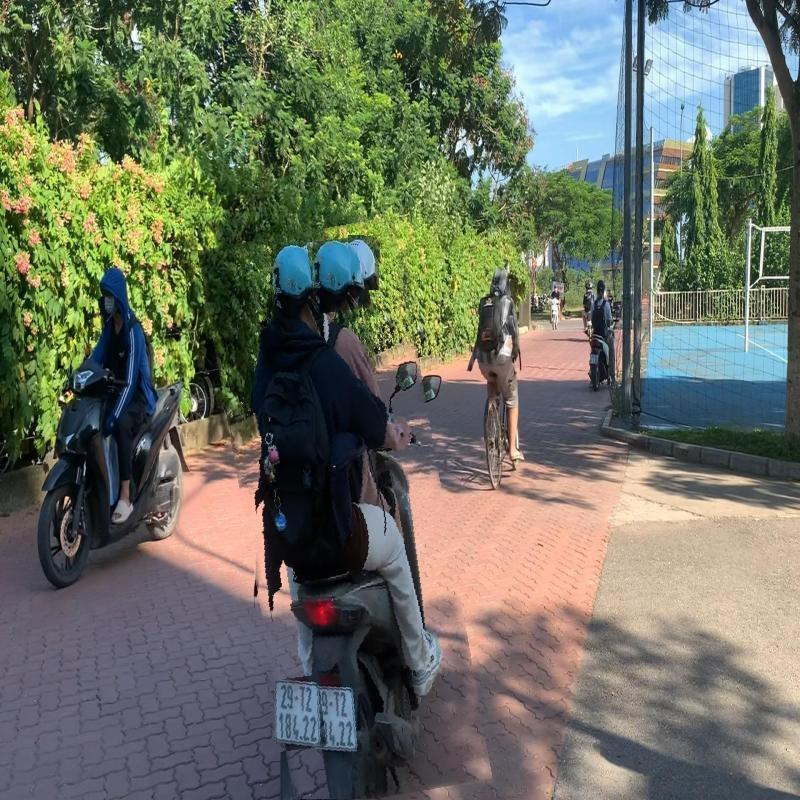helmet: (310, 238, 370, 312), (348, 235, 380, 290)
licenseplate: (269, 676, 324, 750)
motorcyclist: (221, 222, 468, 800)
